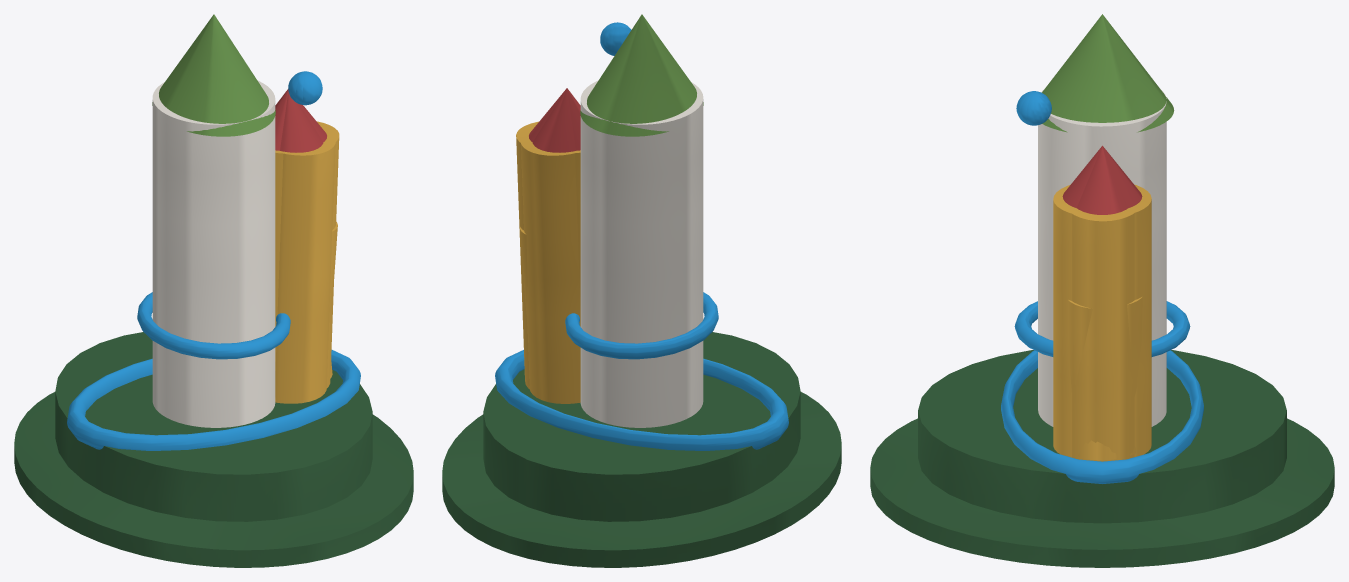
Rendered from 0549_岩石矿物图鉴_石英.glb.
3 views of the same model, side by side, from view 1: azimuth 30°, elevation 25°; view 2: azimuth 150°, elevation 25°; view 3: azimuth 270°, elevation 25° (orthographic). The views are drawn at different scales.
Visible parts, largest first — view 1: card_0549; view 2: card_0549; view 3: card_0549.
Boxes of the visible parts, bbox=[...] form: card_0549: bbox=[14, 14, 413, 567]; card_0549: bbox=[442, 14, 841, 567]; card_0549: bbox=[870, 14, 1334, 567].
Bounding box in the file's own units: 0.7451 × 1 × 0.8917.
